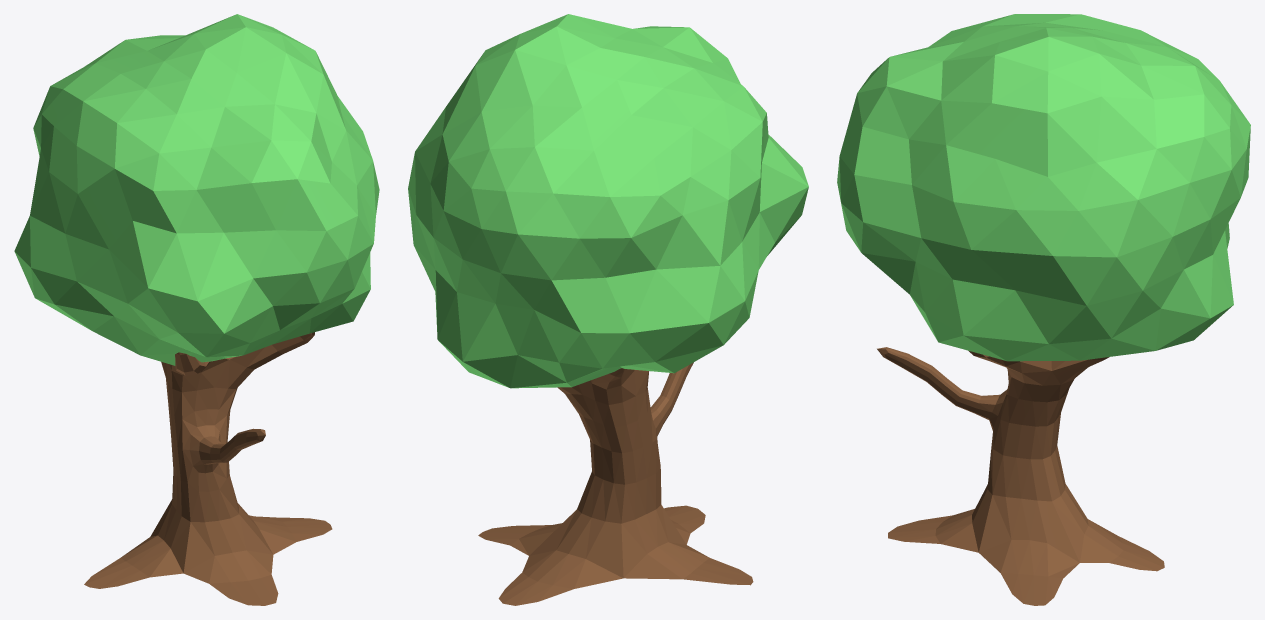
Rendered from drzewo_2.fbx.
3 renders of one model, left to right at view 1: azimuth 30°, elevation 25°; view 2: azimuth 150°, elevation 25°; view 3: azimuth 270°, elevation 25°, orthographic. The views are drawn at different scales.
Parts seen in each view (by area): view 1: Cube.001; view 2: Cube.001; view 3: Cube.001.
Boxes of the visible parts, x1,y1,x2,y2 form: Cube.001: (14,14,379,605); Cube.001: (408,14,808,605); Cube.001: (837,14,1250,605).
Size of the model in its own units: 1544 by 2427 by 1708.
